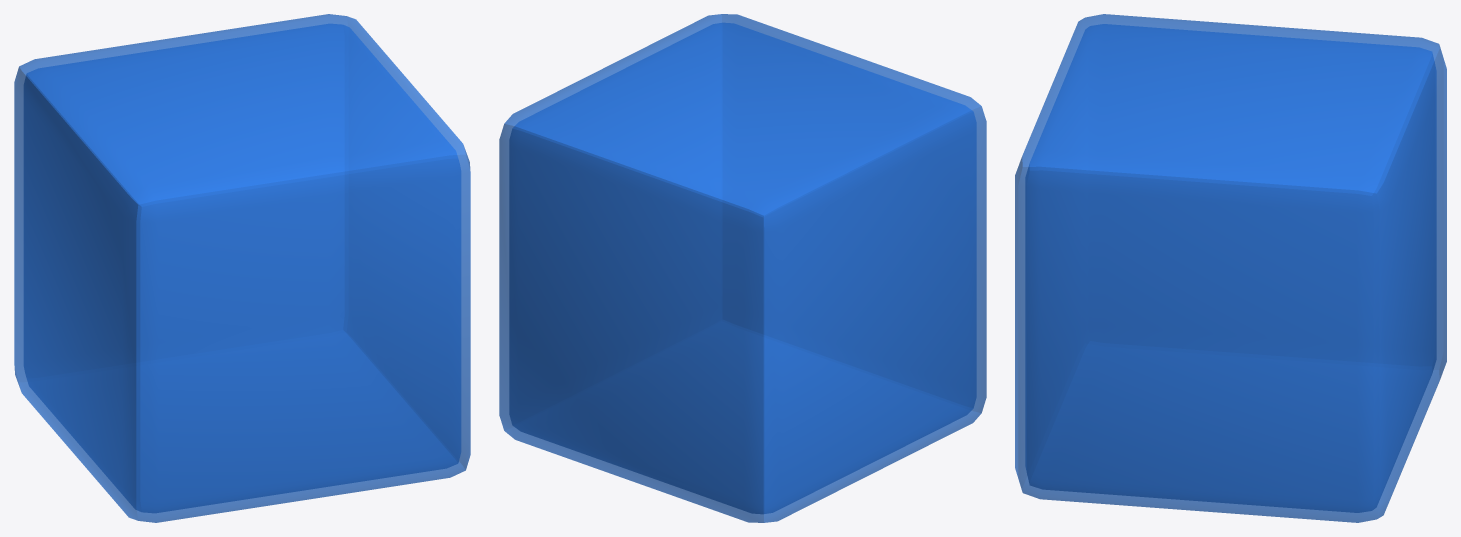
The model's file is IceCubes_1.FBX.
3 renders of one model, left to right at view 1: azimuth 30°, elevation 25°; view 2: azimuth 150°, elevation 25°; view 3: azimuth 270°, elevation 25°, orthographic. The views are drawn at different scales.
Parts seen in each view (by area): view 1: IceCube; view 2: IceCube; view 3: IceCube.
Part boxes in pixels (left/top/right/bottom): IceCube: left=14, top=14, right=470, bottom=522; IceCube: left=499, top=14, right=986, bottom=522; IceCube: left=1015, top=14, right=1446, bottom=522.
Bounding box in the file's own units: 14.71 × 13 × 14.71.
